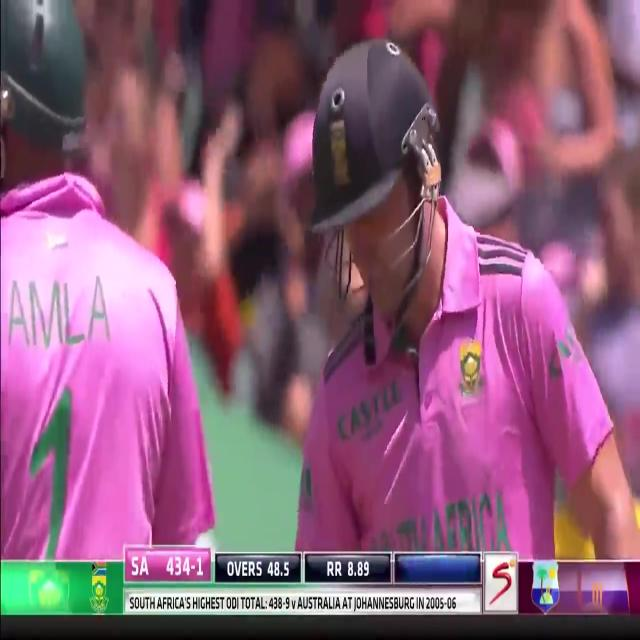Ball: (279, 12, 620, 556), (0, 2, 222, 560)
